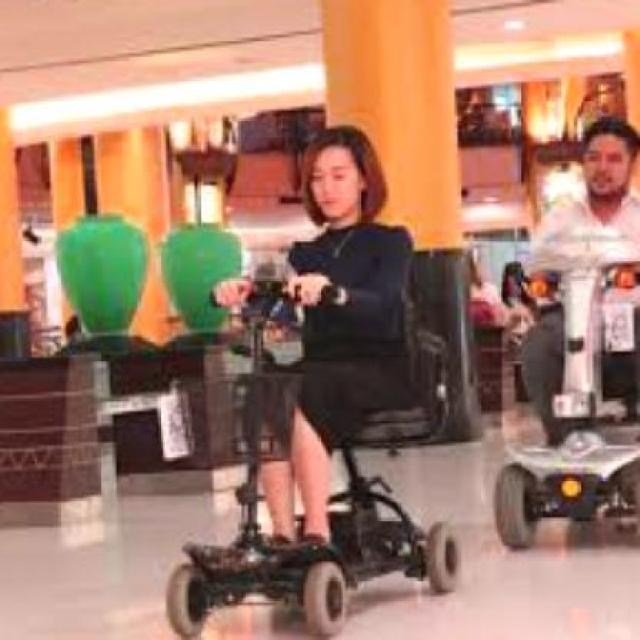wheelchairs: (148, 226, 468, 621), (491, 208, 640, 550)
